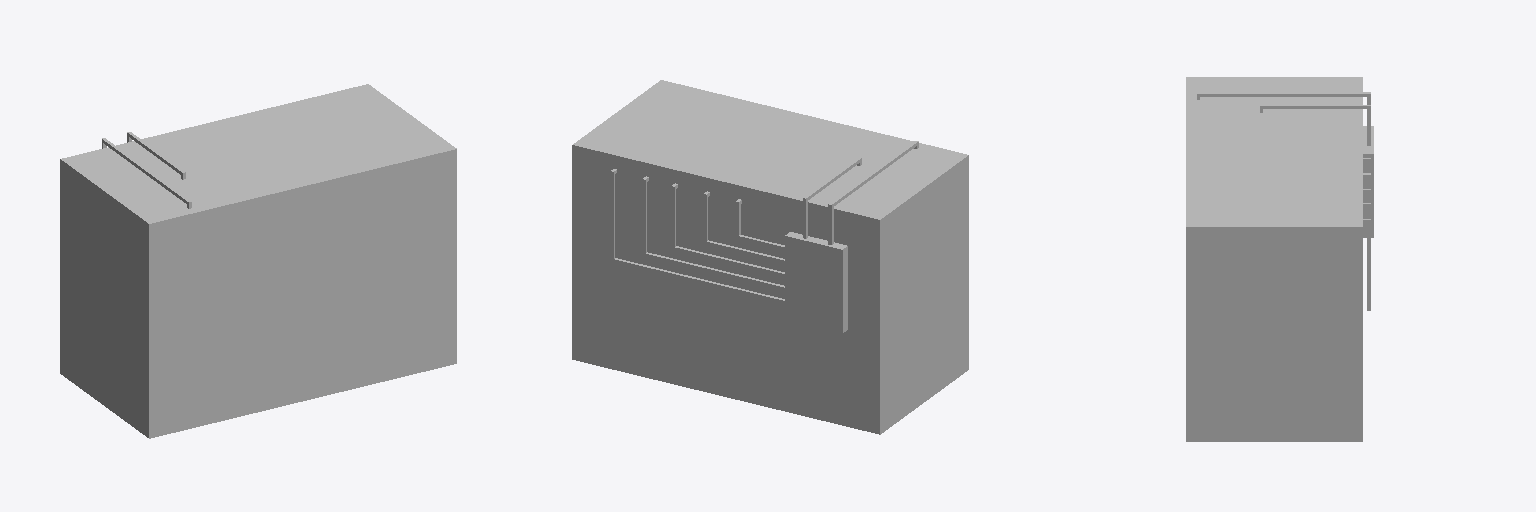
The model's file is electric_oven_mirrored.obj.
3 views of the same model, side by side, from view 1: azimuth 30°, elevation 25°; view 2: azimuth 150°, elevation 25°; view 3: azimuth 270°, elevation 25° (orthographic).
Parts seen in each view (by area): view 1: cube; view 2: cube; view 3: cube.
Part boxes in pixels (bbox=[...]): cube: bbox=[60, 84, 456, 438]; cube: bbox=[572, 80, 968, 434]; cube: bbox=[1186, 77, 1373, 441].
Bounding box in the file's own units: 6 × 4.12 × 3.19.